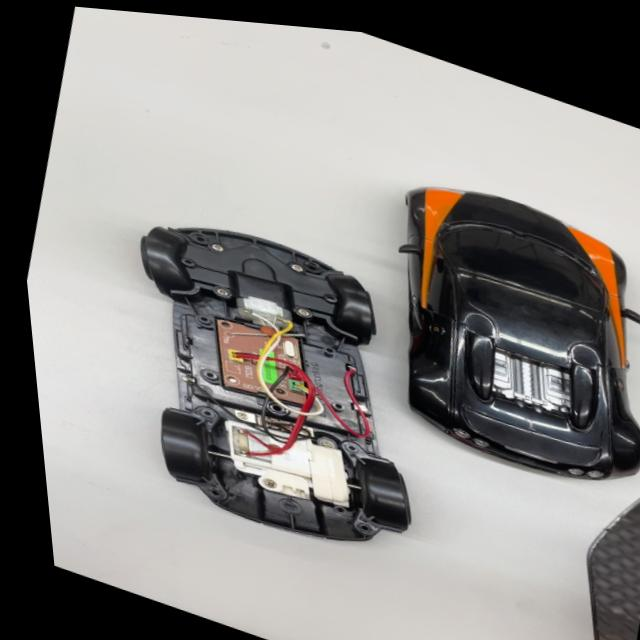Chassis: (71, 189, 478, 580)
vehicle_body: (339, 154, 640, 511)
